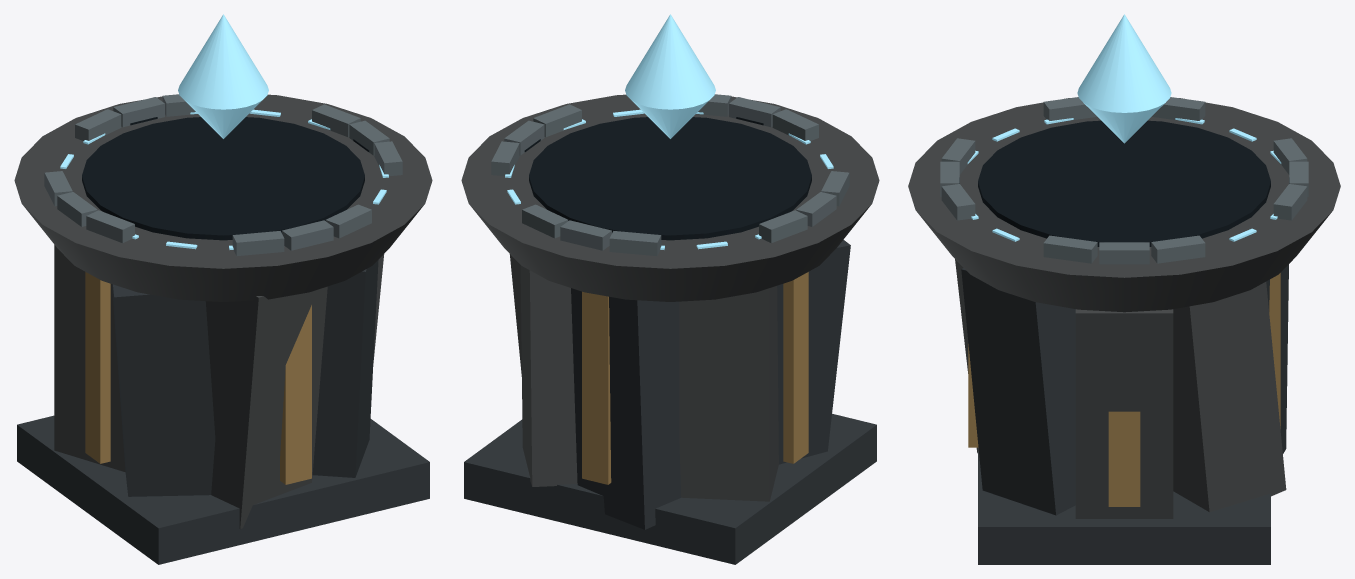
The model's file is FSA_WORLD_EnchantAltar.glb.
The picture shows the model from 3 angles, left to right: view 1: azimuth 30°, elevation 25°; view 2: azimuth 150°, elevation 25°; view 3: azimuth 270°, elevation 25°; orthographic projection. The views are drawn at different scales.
Parts seen in each view (by area): view 1: Basin, Recess, Floor, BrokenStone_3, BrokenStone_2, BrokenStone_1, BrokenStone_4, CrystalUpper, MetalStrap_3, MetalStrap_0, RingSegment_0_0, RingSegment_0_1 (+11 smaller); view 2: Basin, Recess, Floor, BrokenStone_4, BrokenStone_5, BrokenStone_6, BrokenStone_3, MetalStrap_2, CrystalUpper, MetalStrap_3, RingSegment_2_2, RingSegment_2_1 (+12 smaller); view 3: Basin, Recess, BrokenStone_1, BrokenStone_6, BrokenStone_0, Floor, CrystalUpper, MetalStrap_1, BrokenStone_5, RingSegment_1_0, RingSegment_1_2, MetalStrap_2 (+9 smaller).
Boxes of the visible parts, <box> form: Basin: <box>14,94,432,301</box>; Recess: <box>82,117,364,240</box>; Floor: <box>17,415,429,564</box>; BrokenStone_3: <box>112,284,215,496</box>; BrokenStone_2: <box>205,286,327,528</box>; BrokenStone_1: <box>312,260,378,477</box>; BrokenStone_4: <box>54,245,125,472</box>; CrystalUpper: <box>178,14,268,109</box>; MetalStrap_3: <box>85,272,110,463</box>; MetalStrap_0: <box>280,305,311,484</box>; RingSegment_0_0: <box>232,231,284,255</box>; RingSegment_0_1: <box>282,220,333,250</box>; Basin: <box>461,94,879,301</box>; Recess: <box>529,117,811,240</box>; Floor: <box>464,413,876,564</box>; BrokenStone_4: <box>679,286,778,501</box>; BrokenStone_5: <box>571,288,681,529</box>; BrokenStone_6: <box>520,265,577,486</box>; BrokenStone_3: <box>777,240,850,464</box>; MetalStrap_2: <box>582,291,611,484</box>; CrystalUpper: <box>625,14,715,109</box>; MetalStrap_3: <box>783,272,808,463</box>; RingSegment_2_2: <box>609,231,661,255</box>; RingSegment_2_1: <box>560,220,611,250</box>; Basin: <box>908,98,1340,312</box>; Recess: <box>978,120,1270,246</box>; BrokenStone_1: <box>961,268,1075,515</box>; BrokenStone_6: <box>1173,282,1286,512</box>; BrokenStone_0: <box>1075,309,1173,518</box>; Floor: <box>978,447,1270,564</box>; CrystalUpper: <box>1077,14,1171,112</box>; MetalStrap_1: <box>1108,411,1140,506</box>; BrokenStone_5: <box>1266,264,1288,453</box>; RingSegment_1_0: <box>1043,235,1097,263</box>; RingSegment_1_2: <box>1151,235,1205,263</box>; MetalStrap_2: <box>1269,273,1280,428</box>.
Size of the model in its own units: 1.24 by 1.52 by 1.24.
